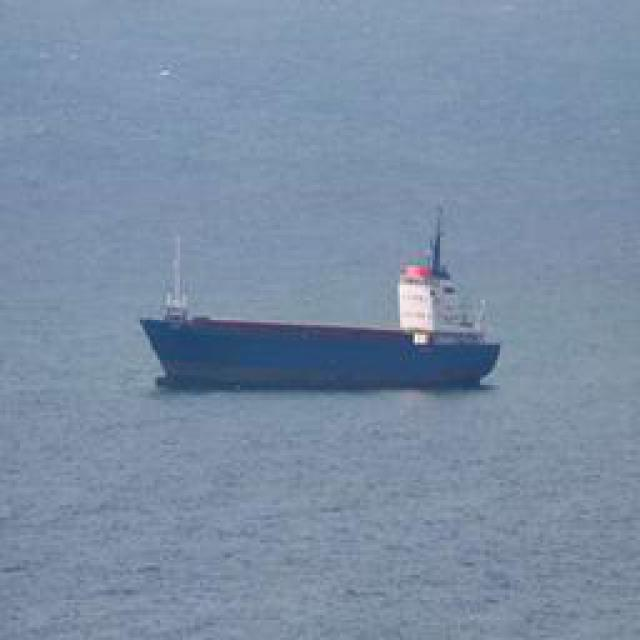Ship: (145, 211, 505, 394)
